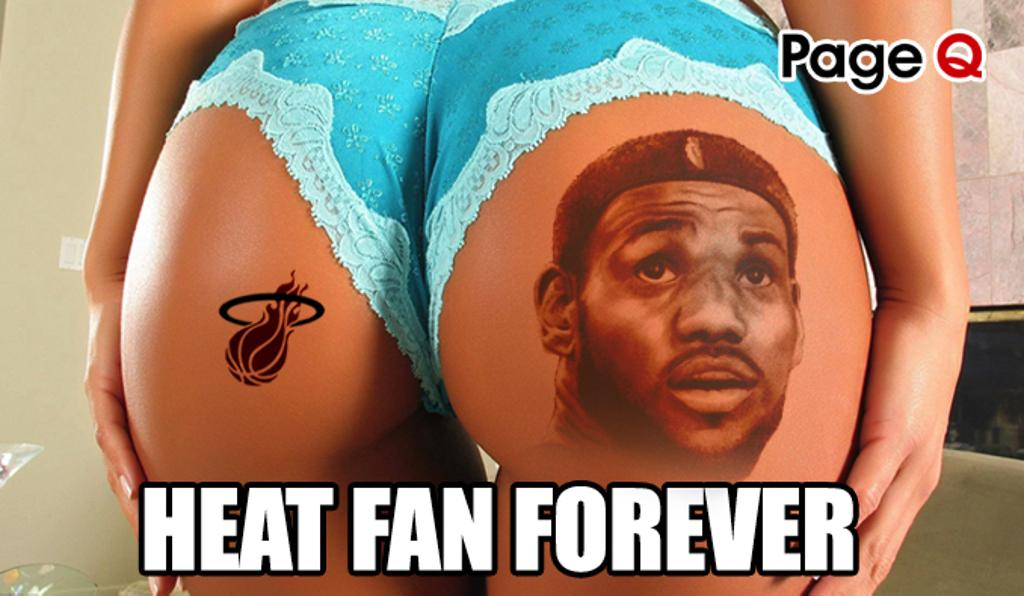face: (594, 200, 786, 458)
